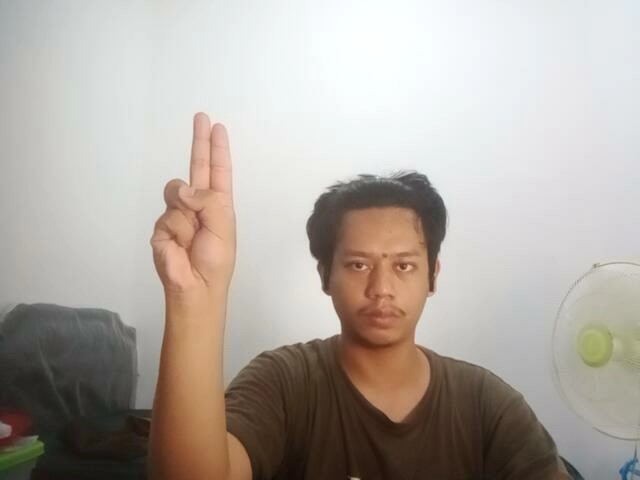U: (145, 108, 250, 299)
